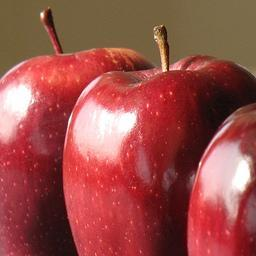apple: (61, 54, 256, 255), (1, 48, 153, 256)
